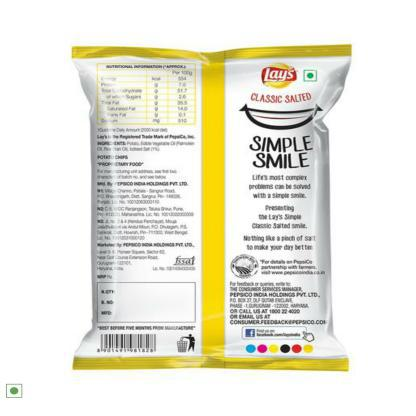classicsalted: (71, 44, 353, 371)
